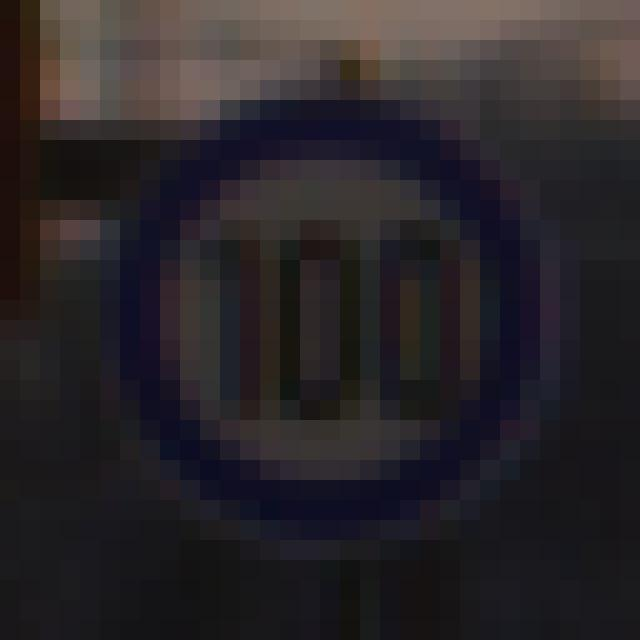SPEED LIMIT 100: (118, 92, 554, 546)
